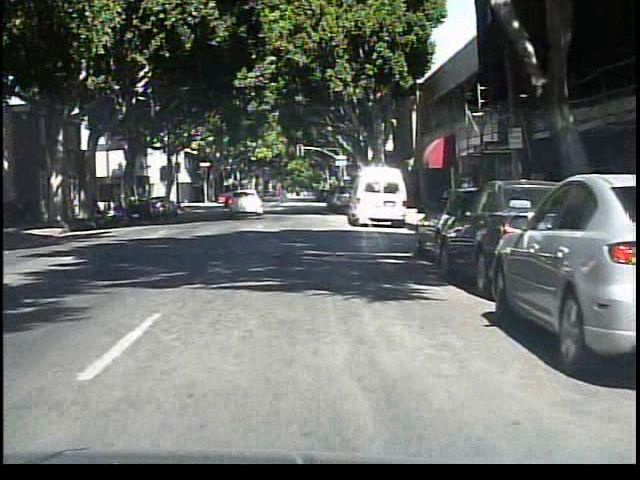person: (454, 165, 479, 228), (273, 173, 294, 206)
